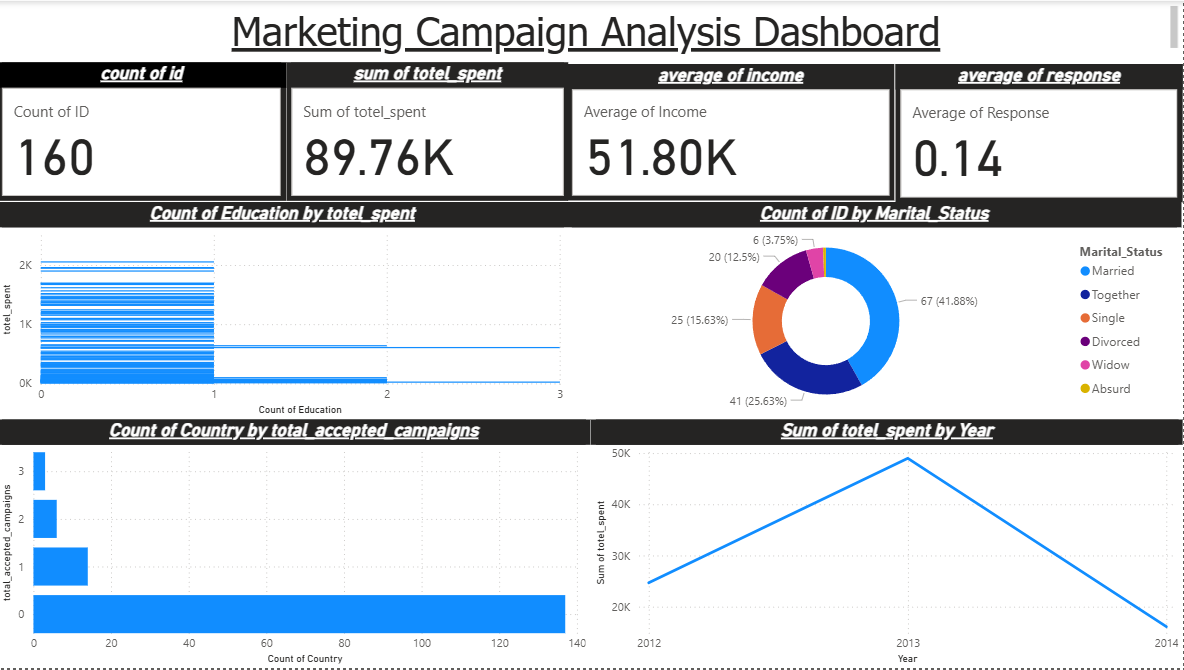

Layout of this report page (visuals, bound fields, positions):
{"tool":"powerbi","page":{"name":"Page 1","canvas":[1280,720],"ordinal":0},"visuals":[{"type":"textbox","box":[0,0,1279.4,66.1],"z":0},{"type":"cardVisual","title":"count of id","fields":{"Data":["CountNonNull(marketing_data.ID)"]},"box":[0,66.1,311.8,149.3],"z":1},{"type":"cardVisual","title":"sum of totel_spent","fields":{"Data":["Sum(marketing_data.totel_spent)"]},"box":[311.8,66.1,304.3,149.3],"z":2},{"type":"cardVisual","title":"average of income","fields":{"Data":["Avg(marketing_data.Income)"]},"box":[616.1,68,353.4,147.4],"z":3},{"type":"cardVisual","title":"average of response","fields":{"Data":["Avg(marketing_data.Response)"]},"box":[969.5,68,309.9,149.3],"z":4},{"type":"barChart","fields":{"Y":["CountNonNull(marketing_data.Education)"],"Category":["marketing_data.totel_spent"]},"box":[0,217.3,616.1,234.3],"z":5},{"type":"barChart","fields":{"Y":["CountNonNull(marketing_data.Country)"],"Category":["marketing_data.total_accepted_campaigns"]},"box":[0,451.7,640.6,268.3],"z":6},{"type":"donutChart","fields":{"Category":["marketing_data.Marital_Status"],"Y":["CountNonNull(marketing_data.ID)"]},"box":[616.1,217.3,663.3,234.3],"z":7},{"type":"lineChart","fields":{"Category":["marketing_data.Dt_Customer.Variation.Date Hierarchy.Year","marketing_data.Dt_Customer.Variation.Date Hierarchy.Quarter","marketing_data.Dt_Customer.Variation.Date Hierarchy.Month","marketing_data.Dt_Customer.Variation.Date Hierarchy.Day"],"Y":["Sum(marketing_data.totel_spent)"]},"box":[640.6,451.7,638.7,268.3],"z":8}]}

Visuals, with their boxes in screenshot pixels (x1, y1, x2, y2), scaled from the page's 1280x720 canvas onto the 1184x670 screenshot:
textbox: left=0, top=0, right=1183, bottom=62
"count of id" cardVisual: left=0, top=62, right=288, bottom=200
"sum of totel_spent" cardVisual: left=288, top=62, right=570, bottom=200
"average of income" cardVisual: left=570, top=63, right=897, bottom=200
"average of response" cardVisual: left=897, top=63, right=1183, bottom=202
barChart - CountNonNull(marketing_data.Education) x marketing_data.totel_spent: left=0, top=202, right=570, bottom=420
barChart - CountNonNull(marketing_data.Country) x marketing_data.total_accepted_campaigns: left=0, top=420, right=593, bottom=669
donutChart - marketing_data.Marital_Status x CountNonNull(marketing_data.ID): left=570, top=202, right=1183, bottom=420
lineChart - marketing_data.Dt_Customer.Variation.Date Hierarchy.Year x marketing_data.Dt_Customer.Variation.Date Hierarchy.Quarter: left=593, top=420, right=1183, bottom=669
